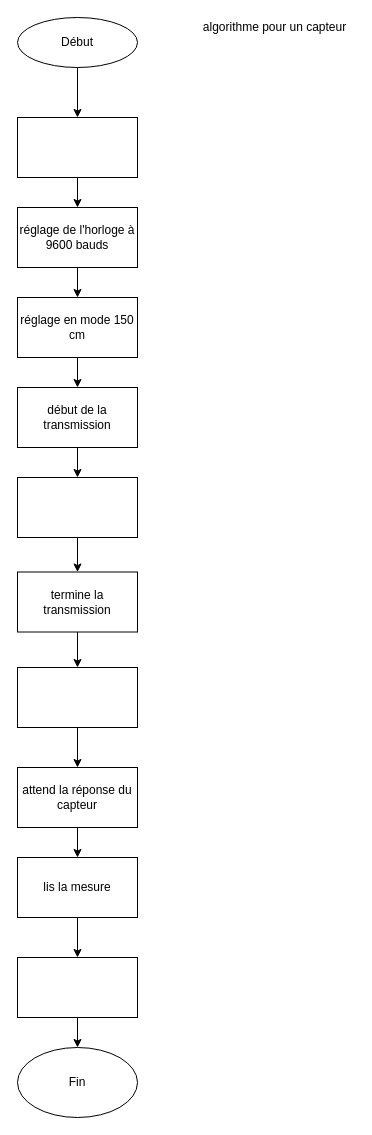
This 372x1135 diagram has some shape labels left out. The shapes that lost their labels are listed below. From the top down, each one's centre as x and y in pixels, then its label:
the point at 77,147: appeler le bus I2C en tant que maître
the point at 77,507: transmet au capteur le registre à consulter
the point at 77,697: interroge le registre "CMD_INDEX"
the point at 77,987: enregistre sa mesure dans la variable toto n (en fonction du capteur)
